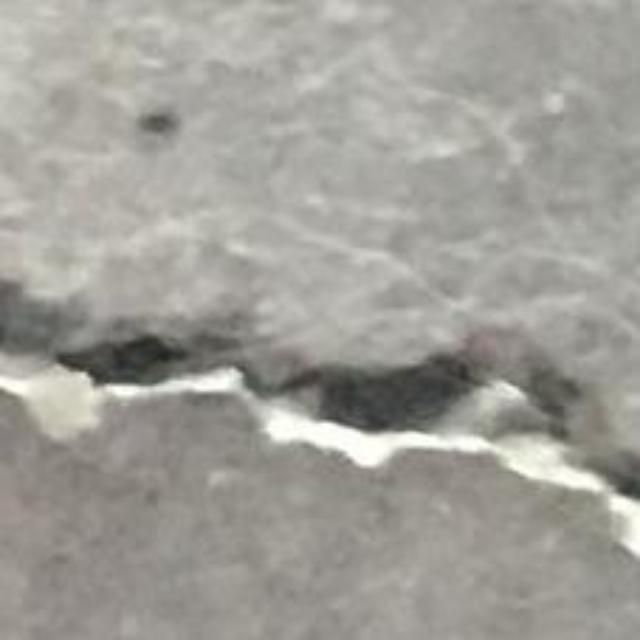crack: (0, 280, 639, 555)
